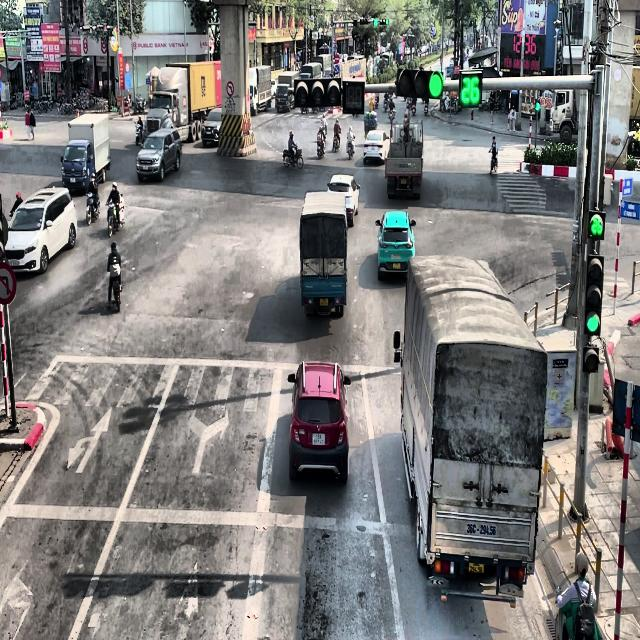lisence_plate: (465, 520, 497, 538), (469, 560, 486, 576), (311, 431, 325, 446), (397, 162, 412, 169), (319, 296, 329, 306), (392, 262, 401, 270), (401, 177, 408, 187), (370, 143, 377, 152)
